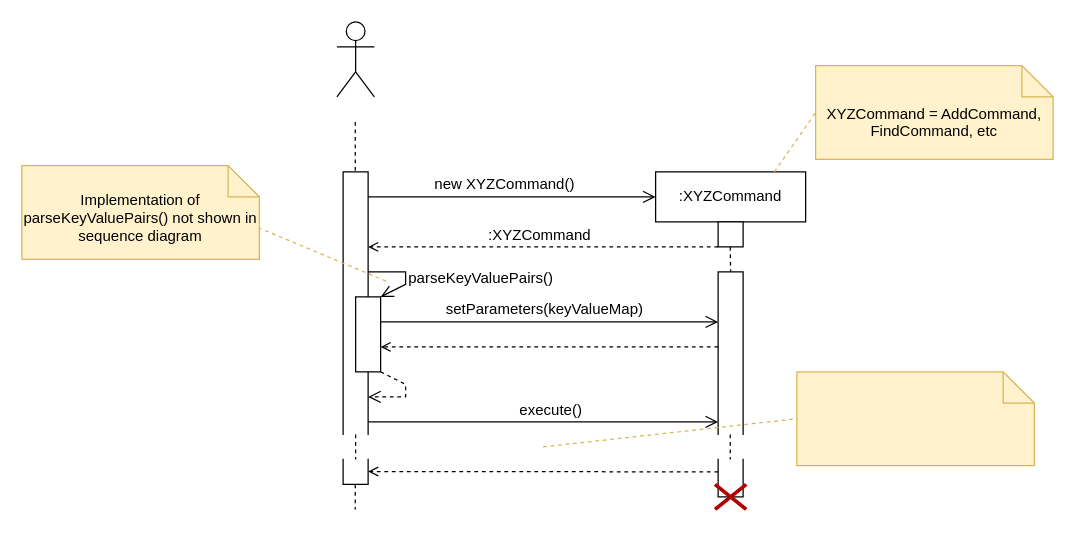
This 1075x533 diagram has some shape labels left out. The shapes that lost their labels are listed below. From the top down, each one's centre as x and y in pixels, then its label:
At point 355,59: "CommandParser".
At point 915,418: "Command specific execution happens here".
